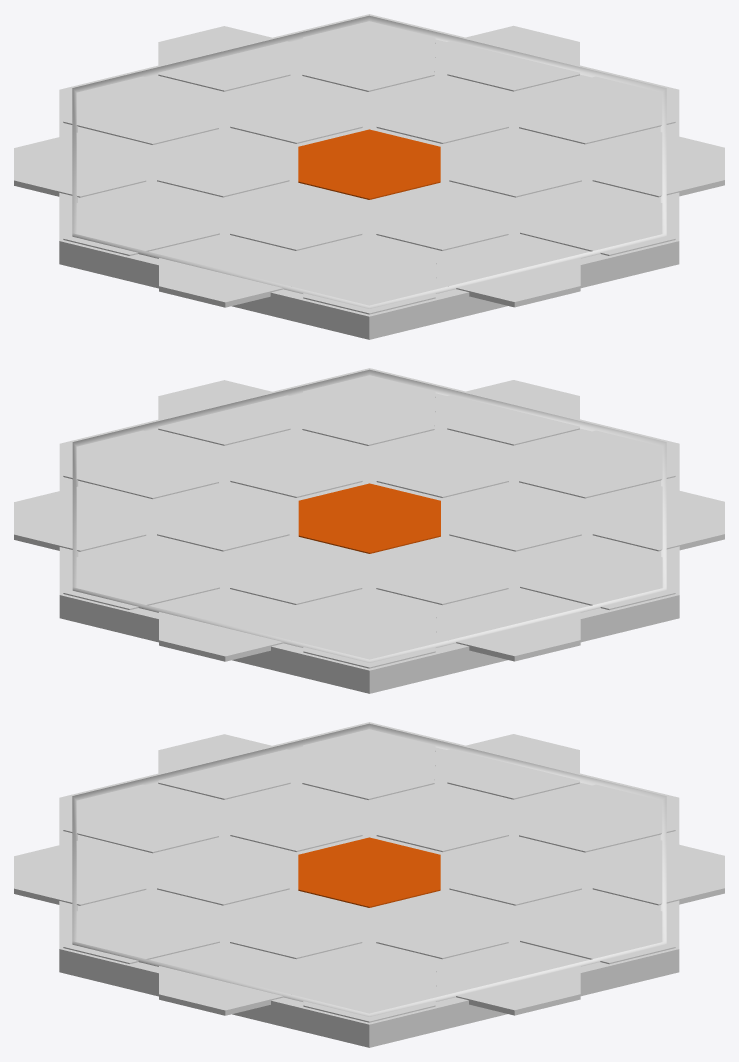
The model's file is cells_ground.fbx.
The picture shows the model from 3 angles, top to bottom: view 1: azimuth 30°, elevation 25°; view 2: azimuth 150°, elevation 25°; view 3: azimuth 270°, elevation 25°; orthographic projection.
Parts seen in each view (by area): view 1: cell_ground; view 2: cell_ground; view 3: cell_ground.
Part boxes in pixels (<box>): cell_ground: <box>14,14,724,339</box>; cell_ground: <box>14,368,724,693</box>; cell_ground: <box>14,722,724,1047</box>.
Bounding box in the file's own units: 341 × 14.69 × 338.
